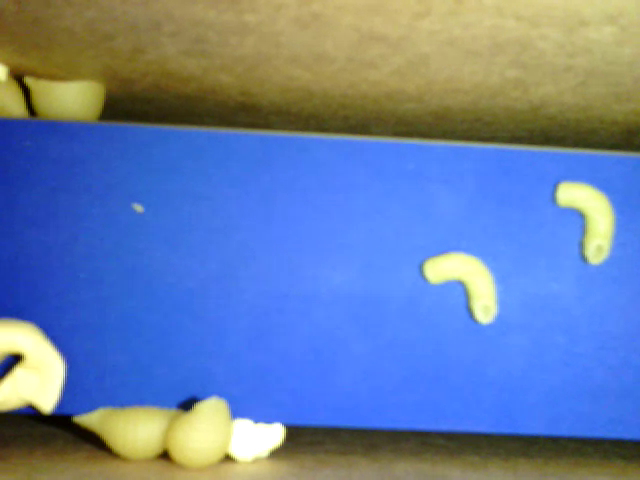elbow: (423, 248, 501, 328), (555, 180, 616, 268)
shell: (70, 407, 185, 460), (166, 394, 238, 471), (24, 75, 110, 125)
tortellini: (1, 316, 69, 419)
